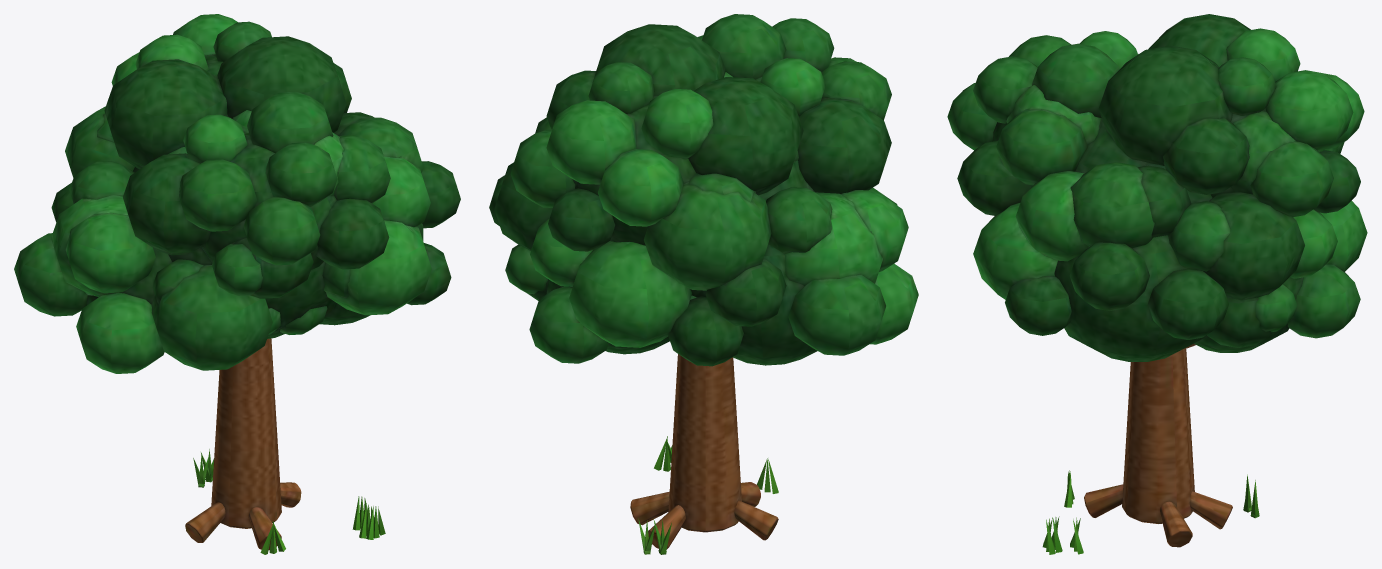
File: mangosteen_tree.glb
The picture shows the model from 3 angles, left to right: view 1: azimuth 30°, elevation 25°; view 2: azimuth 150°, elevation 25°; view 3: azimuth 270°, elevation 25°; orthographic projection. The views are drawn at different scales.
Parts seen in each view (by area): view 1: crown, mangosteen_tree; view 2: crown, mangosteen_tree; view 3: crown, mangosteen_tree.
Boxes of the visible parts, x1,y1,x2,y2 form: crown: [14, 14, 460, 373]; mangosteen_tree: [185, 338, 385, 554]; crown: [489, 14, 918, 366]; mangosteen_tree: [630, 354, 778, 554]; crown: [947, 14, 1367, 361]; mangosteen_tree: [1042, 343, 1259, 554].
Bounding box in the file's own units: 1.12 × 1.31 × 1.02.
1 material, 1 textured.
